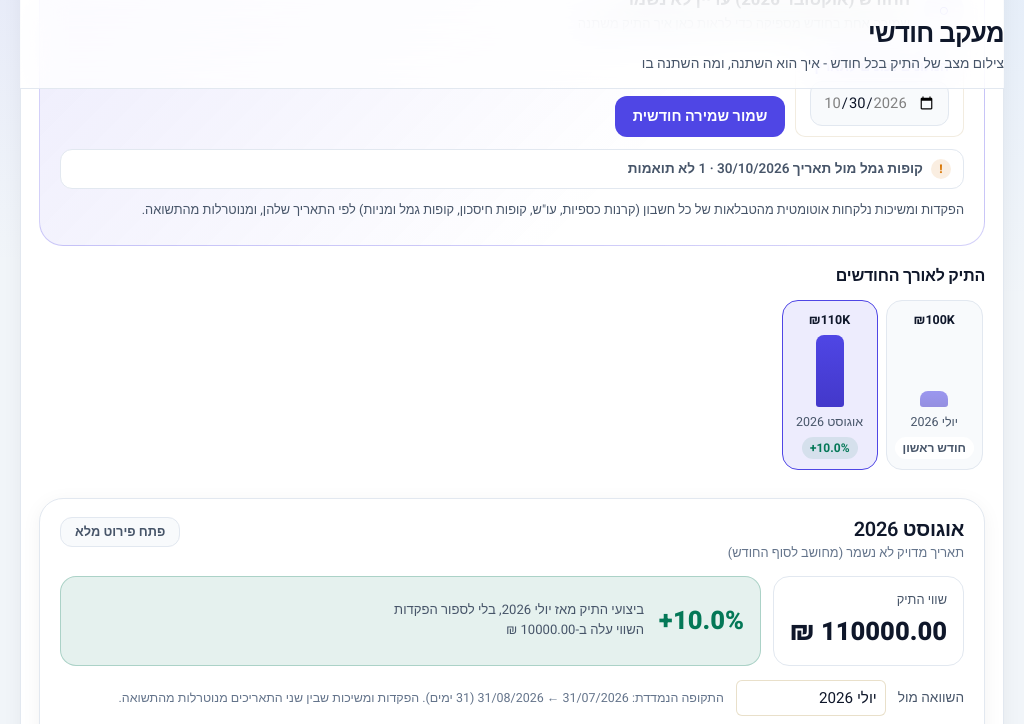
MonthlyTrackerView › pressing a month in the timeline shows that month - the first one on its own, with nothing to compare it with
The width and height of the screenshot is (1024, 724).
(page scrolled)
Click the button "₪100K יולי 2026 חודש ראשון" at (934,385), box [886,300,983,470]
(page scrolled)
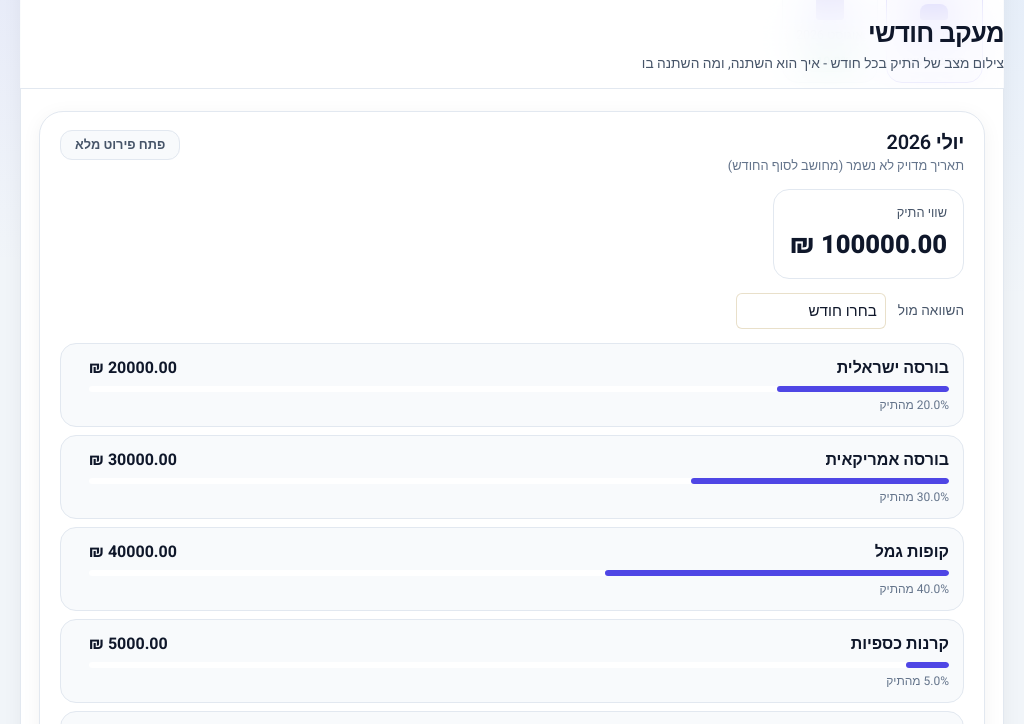
Expected: the list item with class "mt-cat" shows "20000.00", [89,356,177,380]
Now the heading "יולי 2026" is shown, box [887,128,964,157]
Now the element with class "mt-panel-change" is gone
